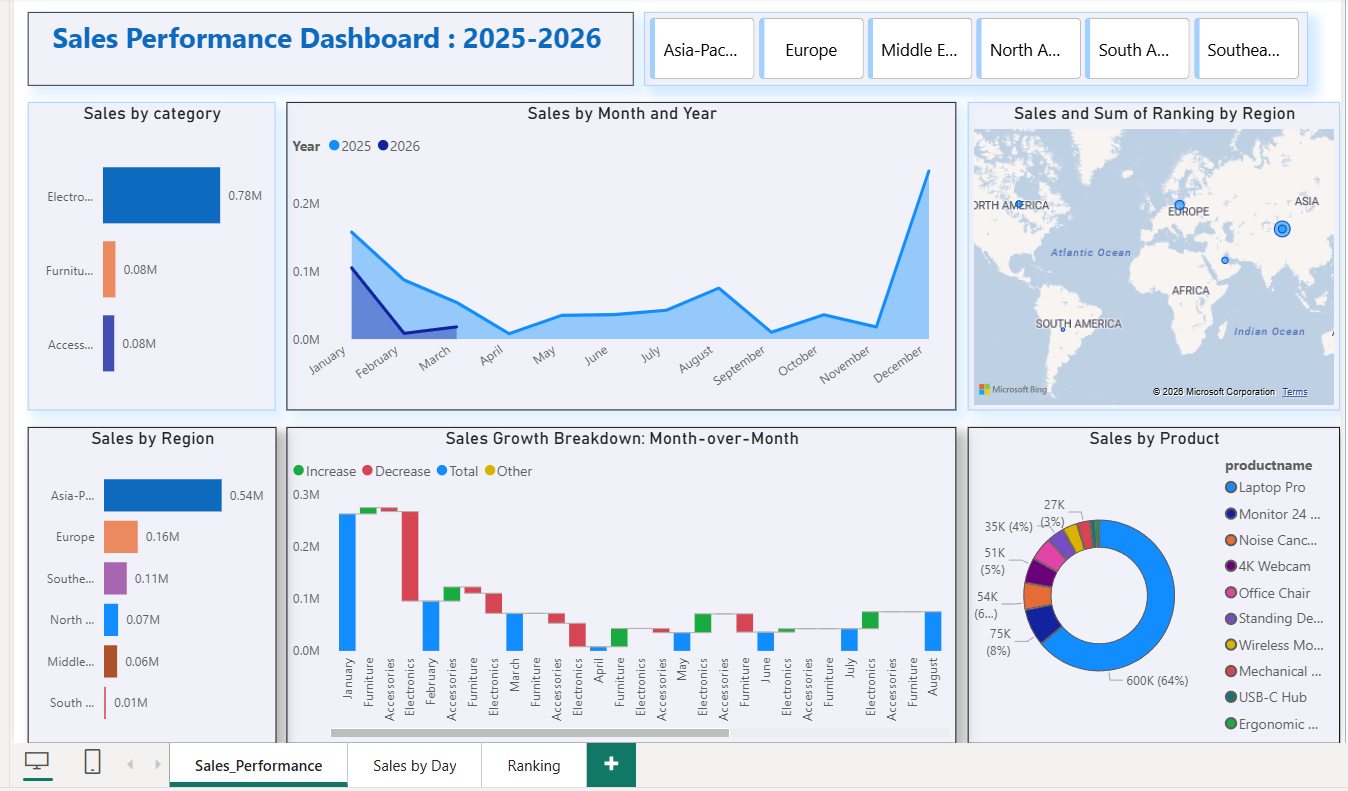

The page's visual inventory and layout, read from the dashboard file:
{"tool":"powerbi","page":{"name":"Sales_Performance","canvas":[1280,720],"ordinal":0},"visuals":[{"type":"clusteredBarChart","fields":{"Category":["Sales_project.category"],"Y":["Measure.Sales"]},"box":[13.3,101.3,238.9,298],"z":0},{"type":"clusteredBarChart","title":"Sales by Region","fields":{"Y":["Measure.Sales"],"Category":["Sales_project.regionname"]},"box":[13.3,415,240.1,305.2],"z":1000},{"type":"areaChart","fields":{"Y":["Measure.Sales"],"Category":["Sales_project.OrderDate.Variation.Date Hierarchy.Month","Sales_project.OrderDate.Variation.Date Hierarchy.Day"],"Series":["Sales_project.OrderDate.Variation.Date Hierarchy.Year"]},"box":[263,101.3,646.7,298],"z":2000},{"type":"waterfallChart","title":"Sales Growth Breakdown: Month-over-Month","fields":{"Category":["Sales_project.OrderDate.Variation.Date Hierarchy.Month"],"Breakdown":["Sales_project.category"],"Y":["Measure.Sales"]},"box":[263,415,646.7,305.2],"z":3000},{"type":"map","title":"Sales and Sum of Ranking by Region","fields":{"Category":["Sales_project.regionname"],"Size":["Measure.Sales"]},"box":[920.5,101.3,359.5,298],"z":4000},{"type":"donutChart","title":"Sales by Product","fields":{"Category":["Sales_project.productname"],"Y":["Measure.Sales"]},"box":[920.5,415,359.5,305.2],"z":5000},{"type":"advancedSlicerVisual","fields":{"Values":["Sales_project.regionname"]},"box":[608,14.5,640.6,71.2],"z":6000},{"type":"textbox","box":[13.3,14.5,585.1,71.2],"z":7000}]}

Visuals, with their boxes in screenshot pixels (x1, y1, x2, y2):
clusteredBarChart - Sales_project.category x Measure.Sales: x1=21, y1=98, x2=269, y2=408
"Sales by Region" clusteredBarChart: x1=21, y1=424, x2=270, y2=741
areaChart - Measure.Sales x Sales_project.OrderDate.Variation.Date Hierarchy.Month: x1=280, y1=98, x2=952, y2=408
"Sales Growth Breakdown: Month-over-Month" waterfallChart: x1=280, y1=424, x2=952, y2=741
"Sales and Sum of Ranking by Region" map: x1=963, y1=98, x2=1336, y2=408
"Sales by Product" donutChart: x1=963, y1=424, x2=1336, y2=741
advancedSlicerVisual - Sales_project.regionname: x1=638, y1=8, x2=1304, y2=82
textbox: x1=21, y1=8, x2=629, y2=82
